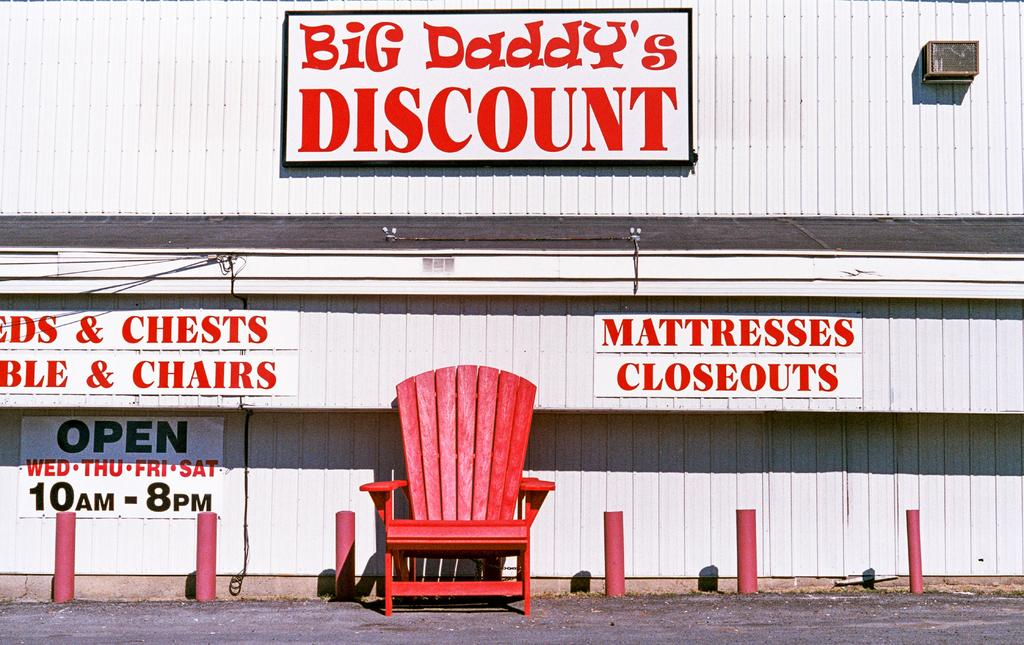Chair: (348, 375, 564, 644)
